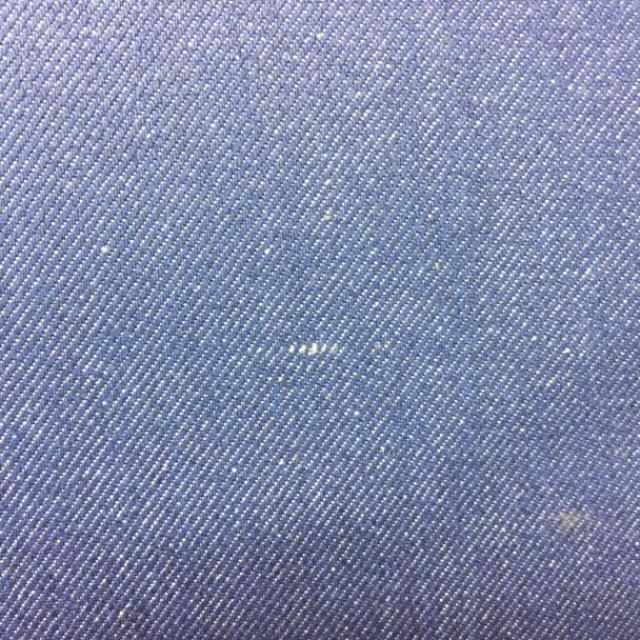Knot: (287, 343, 342, 356)
